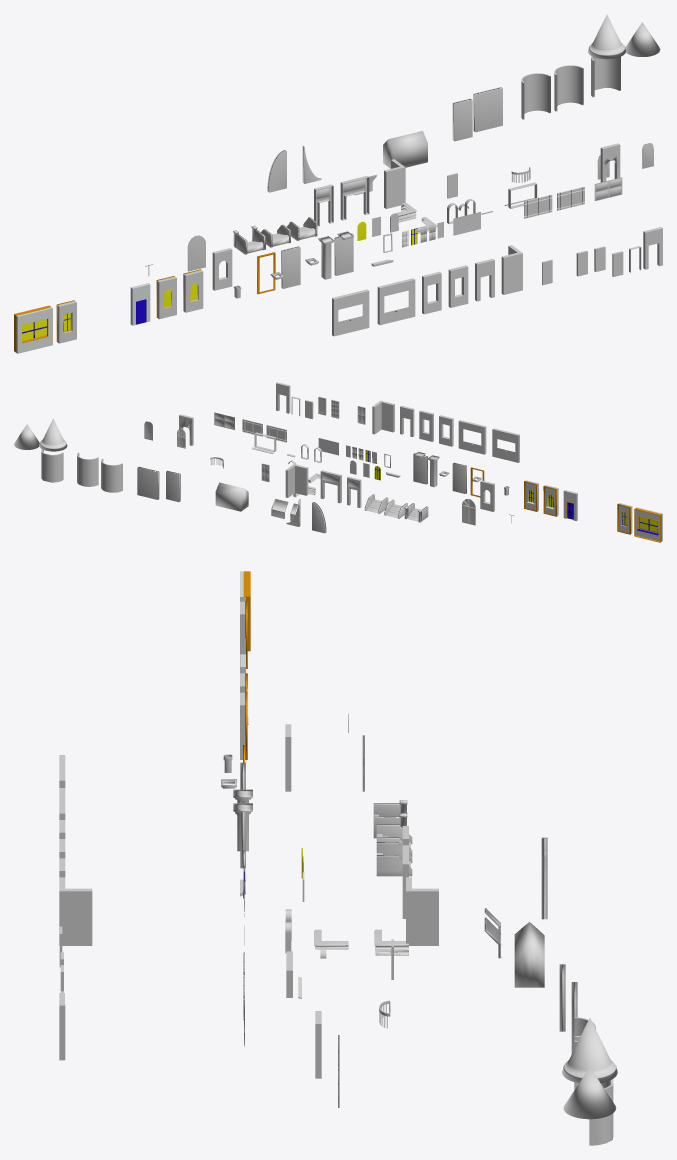
The model's file is Modular Buildings Texture.fbx.
3 renders of one model, top to bottom at view 1: azimuth 30°, elevation 25°; view 2: azimuth 150°, elevation 25°; view 3: azimuth 270°, elevation 25°, orthographic. The views are drawn at different scales.
Visible parts, largest first — view 1: Cube, Rectangular Window Wall 04.002, Cube.071, Rectangular Window Wall 03.002, Arch Window Frame Base 02.006, Arch Window Frame Base 02.005, Rectangular Window Wall 03.003, Cone, Arch Window Frame Base 02.007, Side wall 01.002, Side wall 01.004, Cube.051 (+20 smaller); view 2: Cube, Side wall 01.004, Rectangular Window Wall 04.002, Side wall 01.002, Cube.071, Arch Window Frame Base 02.007, Rectangular Window Wall 03.002, Arch Window Frame Base 02.006, Arch Window Frame Base 02.005, Cone, Rectangular Window Wall 03.003, Cube.051 (+22 smaller); view 3: Side wall 01.002, Side wall 01.004, Cone, Cube, Cone.001, Arch Window Frame Base 02.007.
Boxes of the visible parts, x1=… form: Cube: x1=383, y1=131, x2=427, y2=168; Rectangular Window Wall 04.002: x1=332, y1=289, x2=369, y2=336; Cube.071: x1=473, y1=87, x2=502, y2=132; Rectangular Window Wall 03.002: x1=377, y1=278, x2=415, y2=325; Arch Window Frame Base 02.006: x1=554, y1=65, x2=583, y2=111; Arch Window Frame Base 02.005: x1=521, y1=73, x2=550, y2=119; Rectangular Window Wall 03.003: x1=16, y1=307, x2=52, y2=353; Cone: x1=588, y1=14, x2=625, y2=59; Arch Window Frame Base 02.007: x1=591, y1=56, x2=620, y2=97; Side wall 01.002: x1=501, y1=245, x2=522, y2=294; Side wall 01.004: x1=384, y1=159, x2=405, y2=208; Cube.051: x1=452, y1=98, x2=472, y2=141; Cube: x1=215, y1=482, x2=248, y2=511; Side wall 01.004: x1=285, y1=464, x2=308, y2=497; Rectangular Window Wall 04.002: x1=492, y1=428, x2=519, y2=462; Side wall 01.002: x1=372, y1=400, x2=394, y2=434; Cube.071: x1=137, y1=466, x2=159, y2=499; Arch Window Frame Base 02.007: x1=41, y1=449, x2=63, y2=482; Rectangular Window Wall 03.002: x1=458, y1=420, x2=486, y2=454; Arch Window Frame Base 02.006: x1=77, y1=452, x2=98, y2=486; Arch Window Frame Base 02.005: x1=101, y1=458, x2=122, y2=492; Cone: x1=39, y1=418, x2=67, y2=451; Rectangular Window Wall 03.003: x1=635, y1=507, x2=662, y2=541; Cube.051: x1=166, y1=470, x2=180, y2=501; Side wall 01.002: x1=59, y1=877, x2=92, y2=945; Side wall 01.004: x1=406, y1=877, x2=438, y2=945; Cone: x1=562, y1=1018, x2=617, y2=1083; Cube: x1=514, y1=922, x2=544, y2=987; Cone.001: x1=563, y1=1067, x2=616, y2=1119; Arch Window Frame Base 02.007: x1=589, y1=1079, x2=613, y2=1145.
Size of the model in its own units: 8575 by 966 by 3705.
